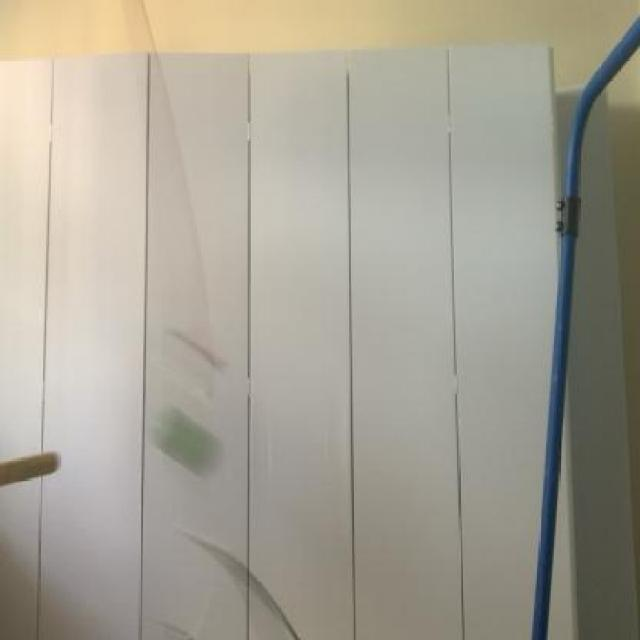baseball: (132, 399, 232, 486)
